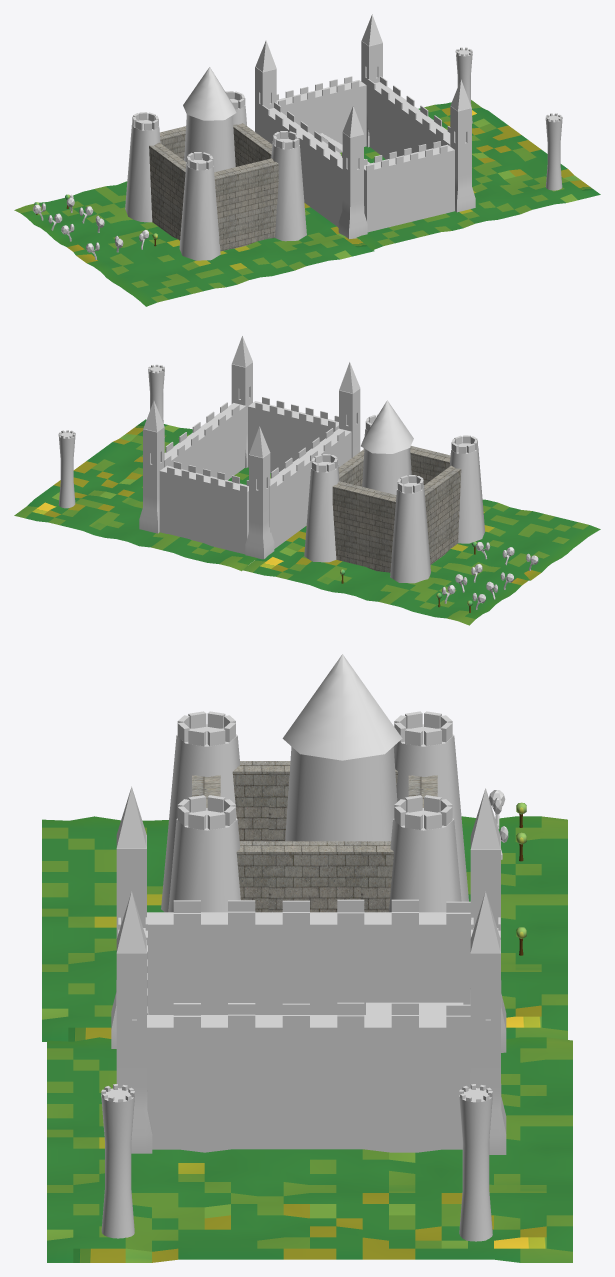
The model's file is Castle_colored.fbx.
3 renders of one model, top to bottom at view 1: azimuth 30°, elevation 25°; view 2: azimuth 150°, elevation 25°; view 3: azimuth 270°, elevation 25°, orthographic. The views are drawn at different scales.
Visible parts, largest first — view 1: Plane001, Plane002, Box008, Box002 (×2), Box003 (×2), Cylinder001 (×2), Box006, Box005, Cylinder002 (×2), Box007, Box004 (×2), Cylinder004 (+4 smaller); view 2: Plane001, Plane002, Box001 (×2), Box007, Cylinder002 (×2), Box006, Box005, Cylinder001 (×2), Box008, Box003 (×2), Box002 (×2), Cylinder003 (+3 smaller); view 3: Plane002, Box006, Plane001, Box005, Box004 (×2), Cylinder001 (×2), Cylinder002 (×2), Box003 (×2), Cylinder005, Cylinder004, Cylinder003, Cone001 (+6 smaller).
Boxes of the visible parts, left/top/right/bottom form: Plane001: left=14, top=181, right=374, bottom=306; Plane002: left=340, top=100, right=600, bottom=250; Box008: left=364, top=141, right=454, bottom=232; Box002 (×2): left=214, top=67, right=278, bottom=251; Box003 (×2): left=149, top=106, right=475, bottom=240; Cylinder001 (×2): left=179, top=47, right=472, bottom=260; Box006: left=367, top=76, right=450, bottom=159; Box005: left=261, top=102, right=342, bottom=227; Cylinder002 (×2): left=125, top=112, right=562, bottom=222; Box007: left=276, top=76, right=366, bottom=152; Box004 (×2): left=233, top=123, right=367, bottom=238; Cylinder004: left=271, top=131, right=306, bottom=241; Plane001: left=243, top=499, right=600, bottom=625; Plane002: left=14, top=419, right=270, bottom=571; Box001 (×2): left=139, top=427, right=396, bottom=572; Box007: left=159, top=461, right=248, bottom=554; Cylinder002 (×2): left=148, top=364, right=430, bottom=583; Box006: left=164, top=402, right=246, bottom=480; Box005: left=269, top=428, right=351, bottom=548; Cylinder001 (×2): left=58, top=430, right=484, bottom=543; Box008: left=248, top=397, right=338, bottom=472; Box003 (×2): left=231, top=362, right=461, bottom=564; Box002 (×2): left=245, top=446, right=450, bottom=559; Cylinder003: left=304, top=454, right=339, bottom=562; Plane002: left=47, top=1037, right=572, bottom=1262; Box006: left=147, top=1002, right=470, bottom=1152; Plane001: left=42, top=816, right=567, bottom=1041; Box005: left=147, top=899, right=470, bottom=1014; Box004 (×2): left=111, top=835, right=393, bottom=1048; Cylinder001 (×2): left=161, top=711, right=492, bottom=1241; Cylinder002 (×2): left=101, top=711, right=468, bottom=1238; Box003 (×2): left=116, top=761, right=397, bottom=1153; Cylinder005: left=285, top=746, right=397, bottom=841; Cylinder004: left=168, top=795, right=240, bottom=912; Cylinder003: left=389, top=795, right=461, bottom=912; Cone001: left=282, top=654, right=402, bottom=760.
Size of the model in its own units: 11960 by 3900 by 6056.
Materials: 7 (6 with a texture image).
